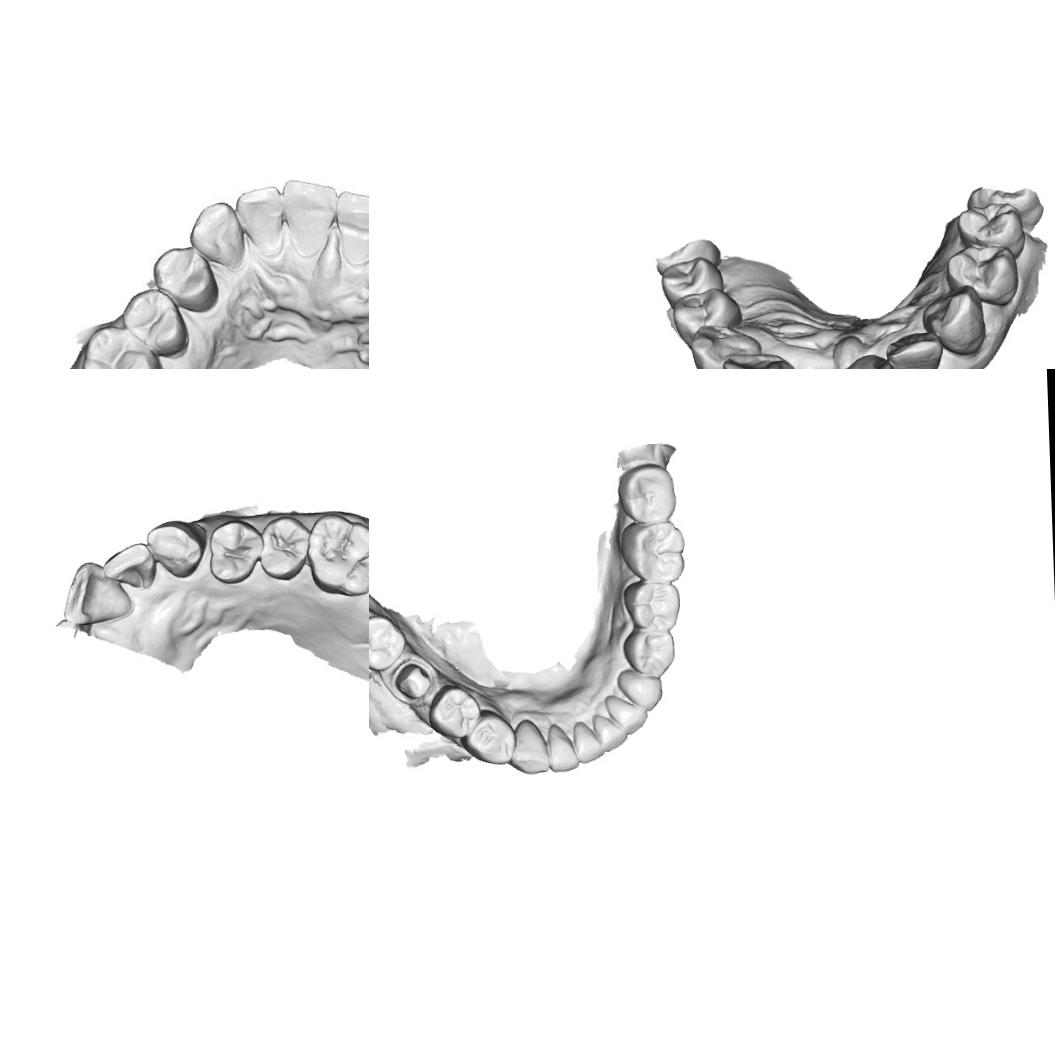abutment: (392, 659, 433, 700)
canine: (920, 283, 986, 358), (186, 199, 248, 272), (145, 518, 210, 581), (689, 322, 763, 369), (507, 718, 550, 776), (616, 667, 664, 713)
incisor: (59, 559, 133, 626), (280, 174, 338, 252), (236, 185, 287, 252), (334, 187, 369, 266), (102, 541, 154, 594), (884, 329, 944, 369), (546, 722, 580, 774), (571, 719, 606, 764), (591, 711, 628, 753), (720, 350, 798, 369), (614, 699, 650, 736), (827, 352, 899, 369)
molar: (303, 510, 369, 600), (618, 521, 686, 584), (77, 323, 166, 369), (616, 462, 678, 524), (369, 613, 407, 673)
premolar: (944, 241, 1020, 308), (122, 287, 190, 360), (152, 241, 220, 312), (671, 286, 744, 348), (956, 200, 1026, 262), (204, 516, 264, 586), (256, 514, 312, 584), (659, 254, 724, 310), (458, 708, 518, 766), (427, 682, 482, 740), (622, 580, 681, 632), (621, 629, 676, 678)
